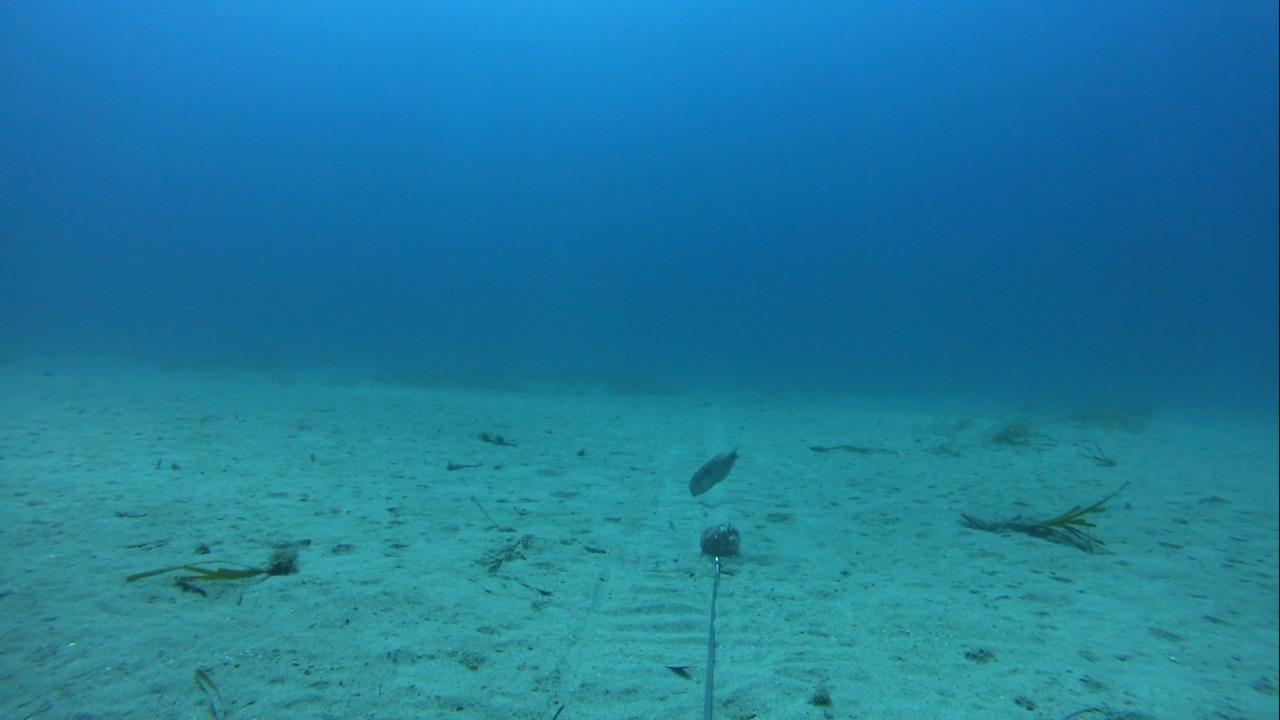raor: (681, 441, 745, 502)
